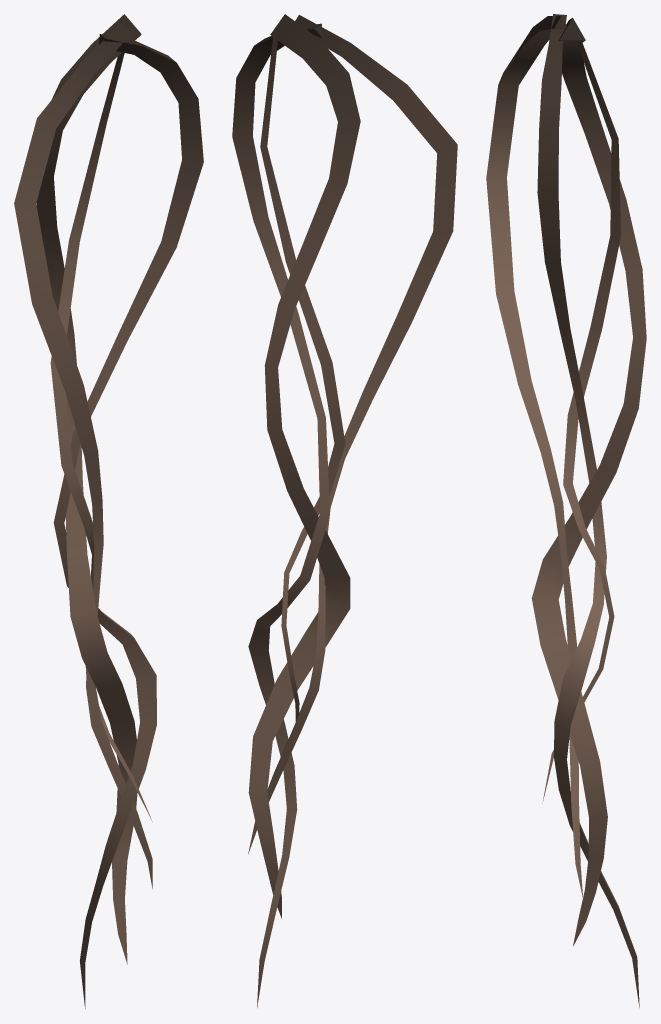
Rendered from Jungle_Vines_Lrg_B.fbx.
3 views of the same model, side by side, from view 1: azimuth 30°, elevation 25°; view 2: azimuth 150°, elevation 25°; view 3: azimuth 270°, elevation 25° (orthographic). The views are drawn at different scales.
Parts seen in each view (by area): view 1: Jungle_Vines_Lrg_B; view 2: Jungle_Vines_Lrg_B; view 3: Jungle_Vines_Lrg_B.
Boxes of the visible parts, x1,y1,x2,y2 form: Jungle_Vines_Lrg_B: (14, 14, 203, 1008); Jungle_Vines_Lrg_B: (232, 14, 457, 1007); Jungle_Vines_Lrg_B: (486, 14, 646, 1007).
Bounding box in the file's own units: 2.59 × 12.07 × 1.76.
